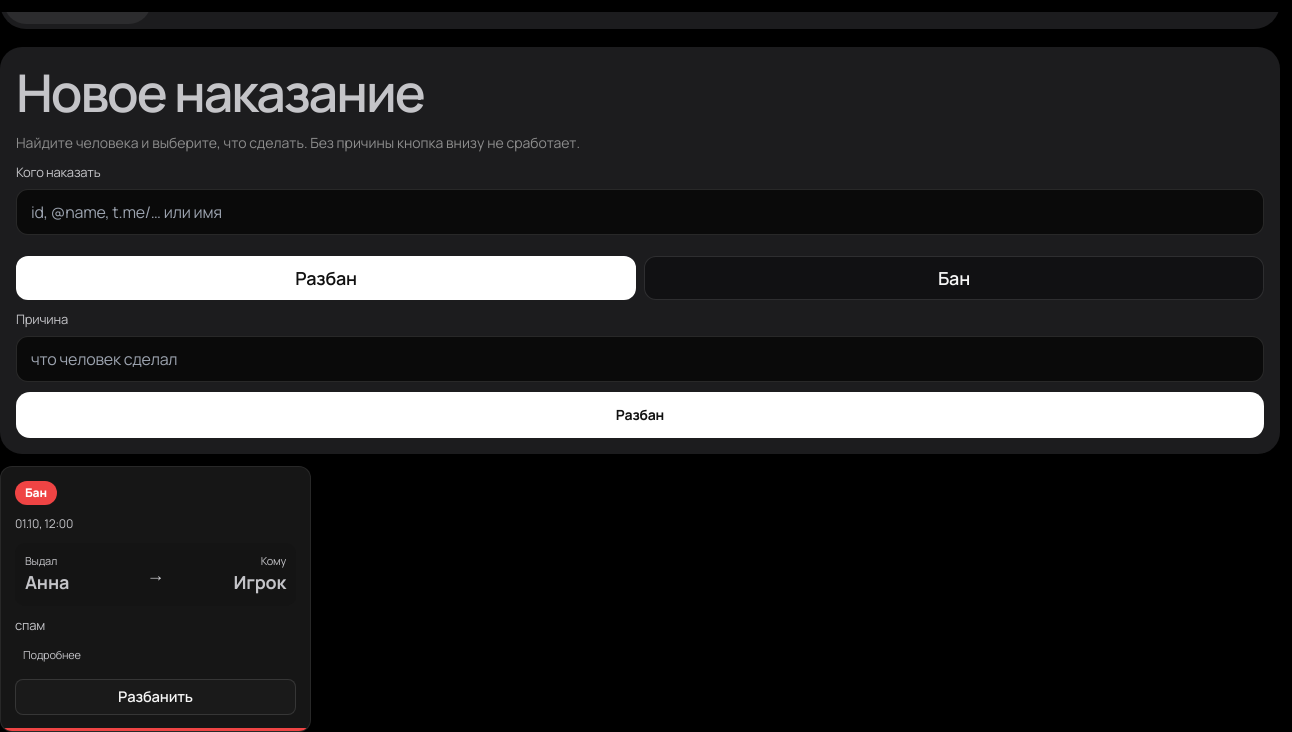
it: GroupArchive › puts the lift on the card and asks for a reason there
(page scrolled)
Click the button "Разбанить". click: (156, 696)
box: [15, 678, 296, 714]
(page scrolled)
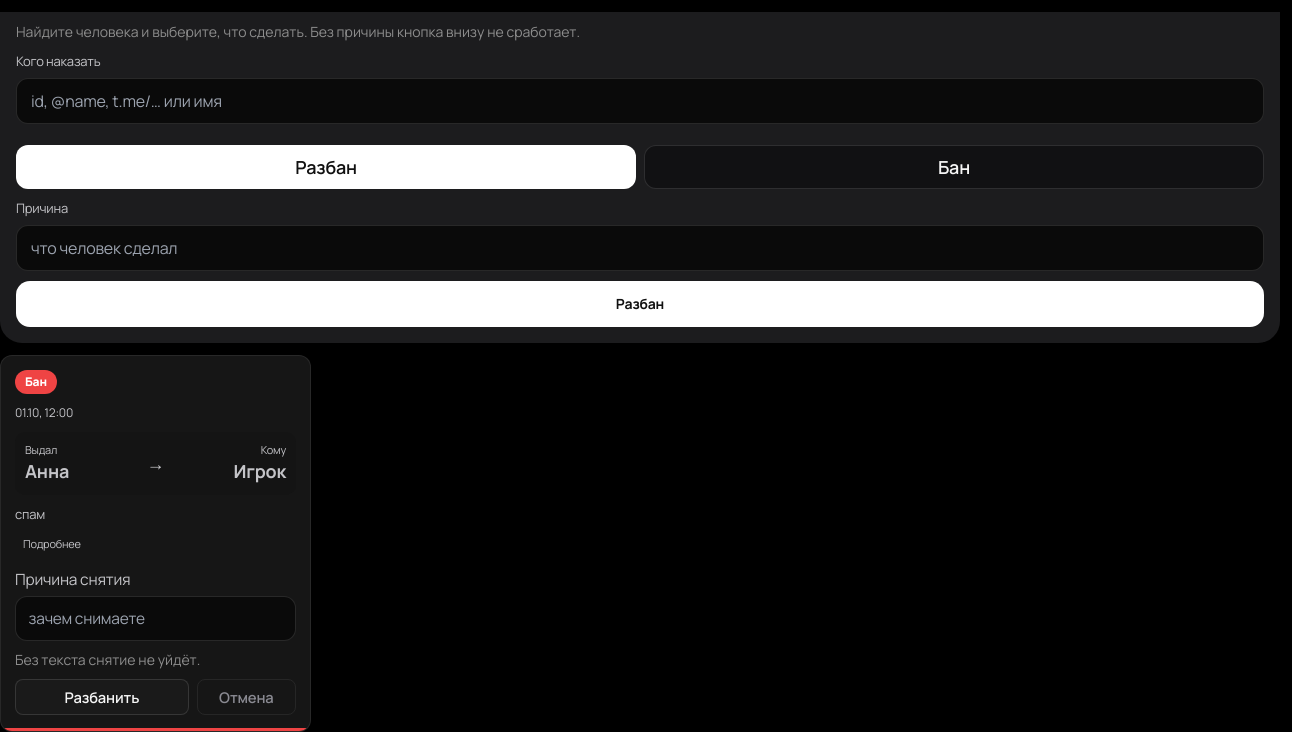
Check: the button "Разбанить" is shown, box [15, 680, 189, 716]
Check: the field labelled "Причина снятия" is shown, box [15, 596, 296, 641]
